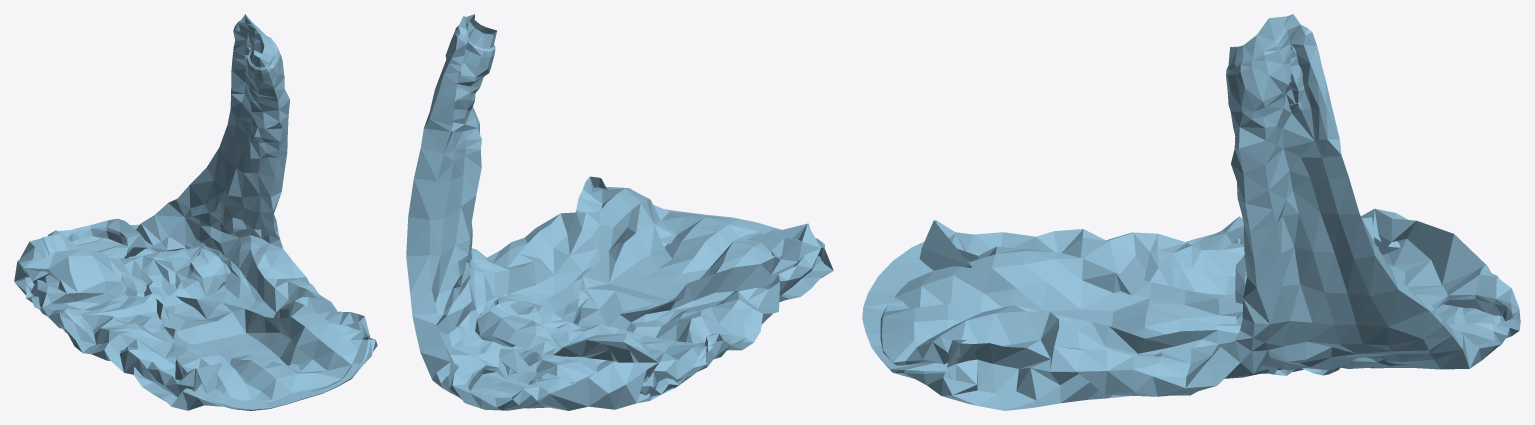
The model's file is frame_11.glb.
3 views of the same model, side by side, from view 1: azimuth 30°, elevation 25°; view 2: azimuth 150°, elevation 25°; view 3: azimuth 270°, elevation 25° (orthographic). The views are drawn at different scales.
Parts seen in each view (by area): view 1: frame_11.obj; view 2: frame_11.obj; view 3: frame_11.obj.
Boxes of the visible parts, box(x1,y1,x2,y2) form: frame_11.obj: box(14, 14, 377, 410); frame_11.obj: box(406, 14, 833, 410); frame_11.obj: box(862, 14, 1520, 410).
Bounding box in the file's own units: 0.9563 × 1.08 × 1.6.
